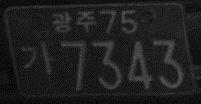3: (152, 38, 183, 90), (91, 39, 123, 89)
4: (125, 39, 154, 90)
5: (120, 8, 137, 36)
7: (58, 39, 87, 93), (99, 8, 116, 36)
가: (20, 41, 56, 77)
광주_O: (50, 10, 97, 34)
